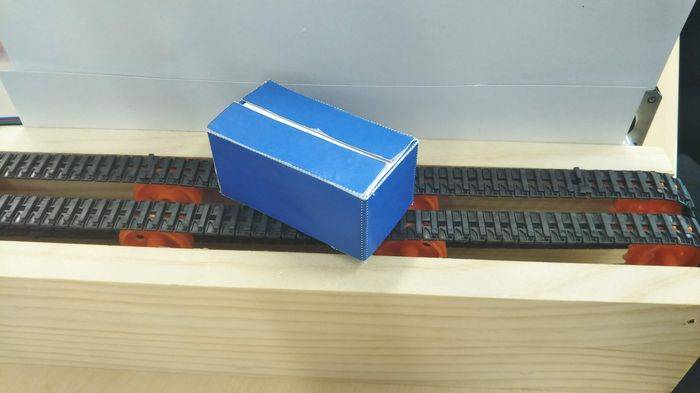box3: (201, 76, 419, 262)
